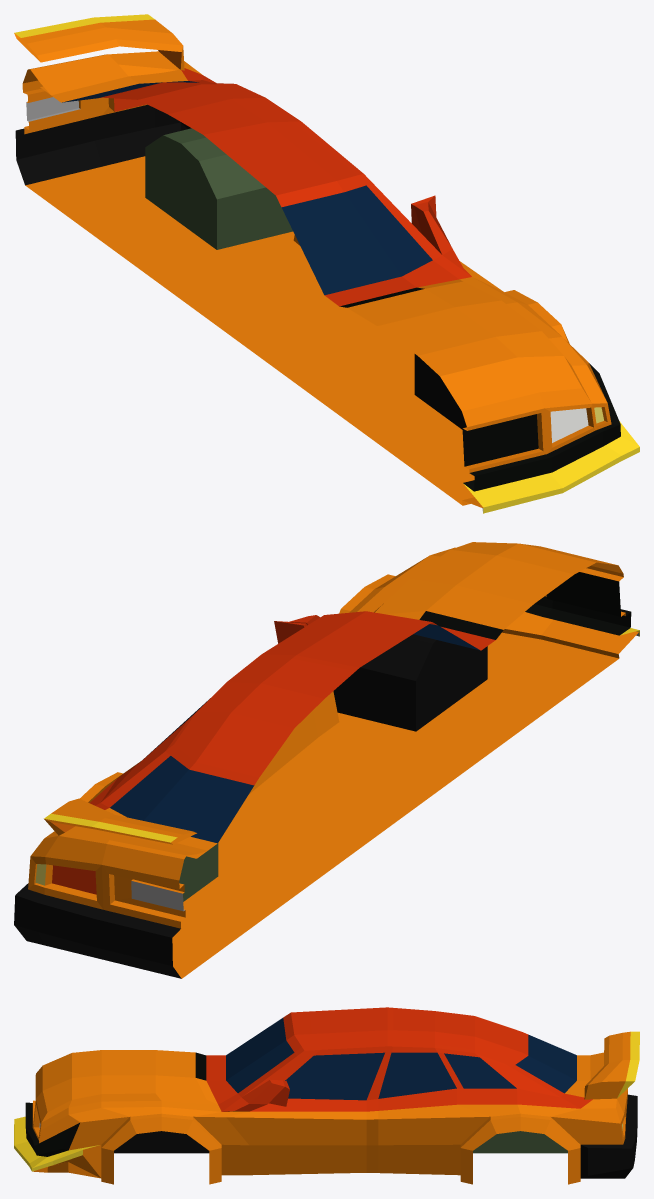
The model's file is car.glb.
3 renders of one model, top to bottom at view 1: azimuth 30°, elevation 25°; view 2: azimuth 150°, elevation 25°; view 3: azimuth 270°, elevation 25°, orthographic. The views are drawn at different scales.
Parts seen in each view (by area): view 1: Car; view 2: Car; view 3: Car.
Boxes of the visible parts, x1=… form: Car: x1=14, y1=14, x2=639, y2=513; Car: x1=14, y1=542, x2=639, y2=978; Car: x1=14, y1=1007, x2=639, y2=1184.
Bounding box in the file's own units: 2.24 × 2.23 × 10.48.
Materials: 1 (1 with a texture image).
